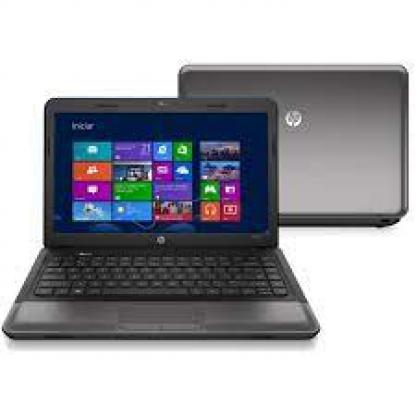NOTEBOOK: (24, 88, 340, 362)
